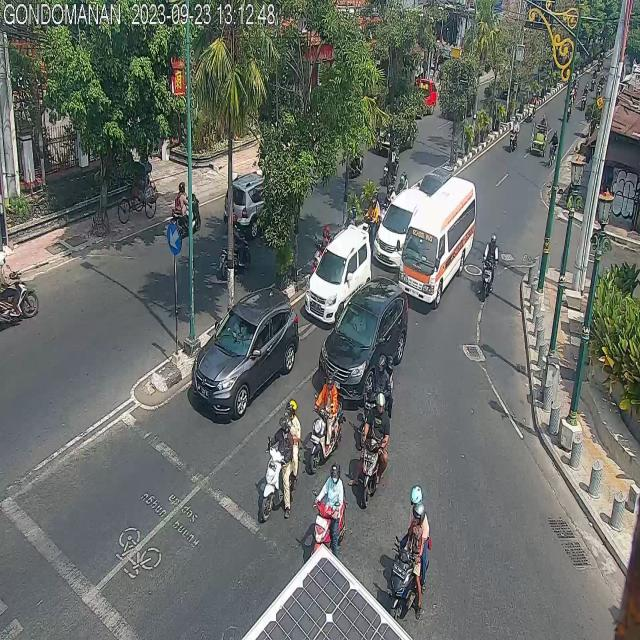bus: (400, 176, 476, 310)
car: (192, 285, 298, 418), (318, 279, 411, 401), (304, 224, 374, 326), (221, 169, 285, 239), (372, 191, 430, 265)
motorcycle: (388, 482, 431, 624), (262, 399, 300, 530), (307, 370, 343, 472), (311, 456, 345, 560), (0, 246, 39, 328), (362, 395, 389, 510), (220, 208, 249, 279), (172, 180, 199, 239), (481, 232, 497, 301), (508, 109, 520, 155), (384, 144, 398, 183)
